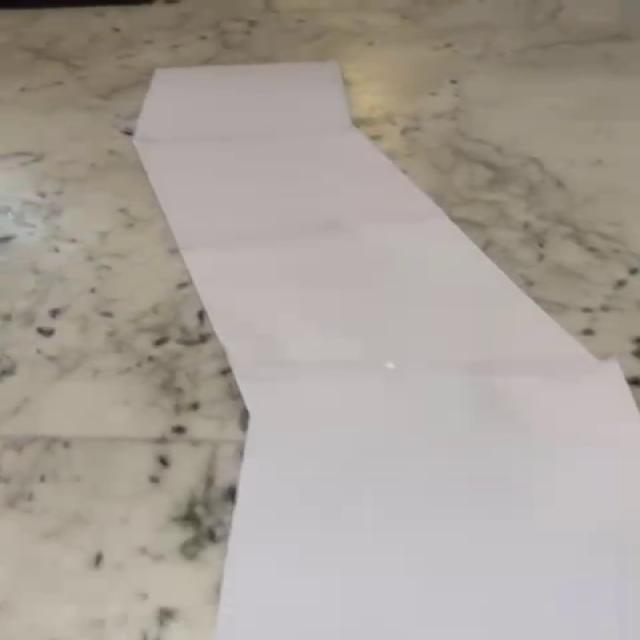road: (135, 58, 637, 640)
